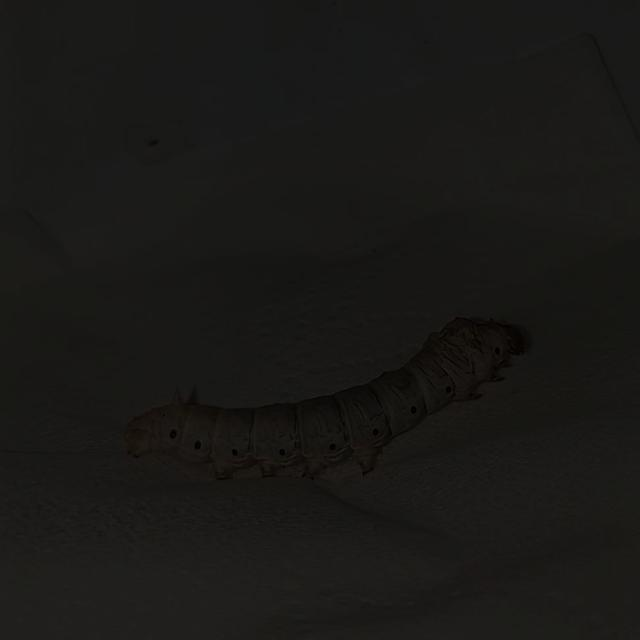Healthy: (104, 292, 541, 498)
